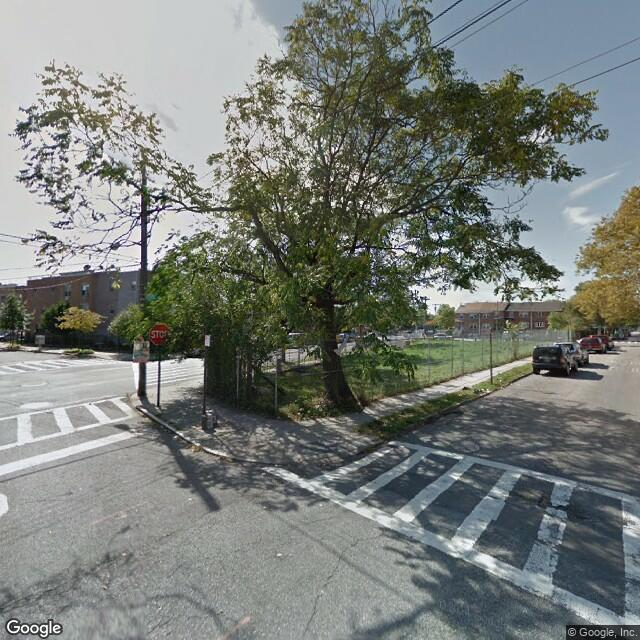litter: (385, 440, 402, 450), (275, 551, 284, 560), (483, 387, 491, 393)
